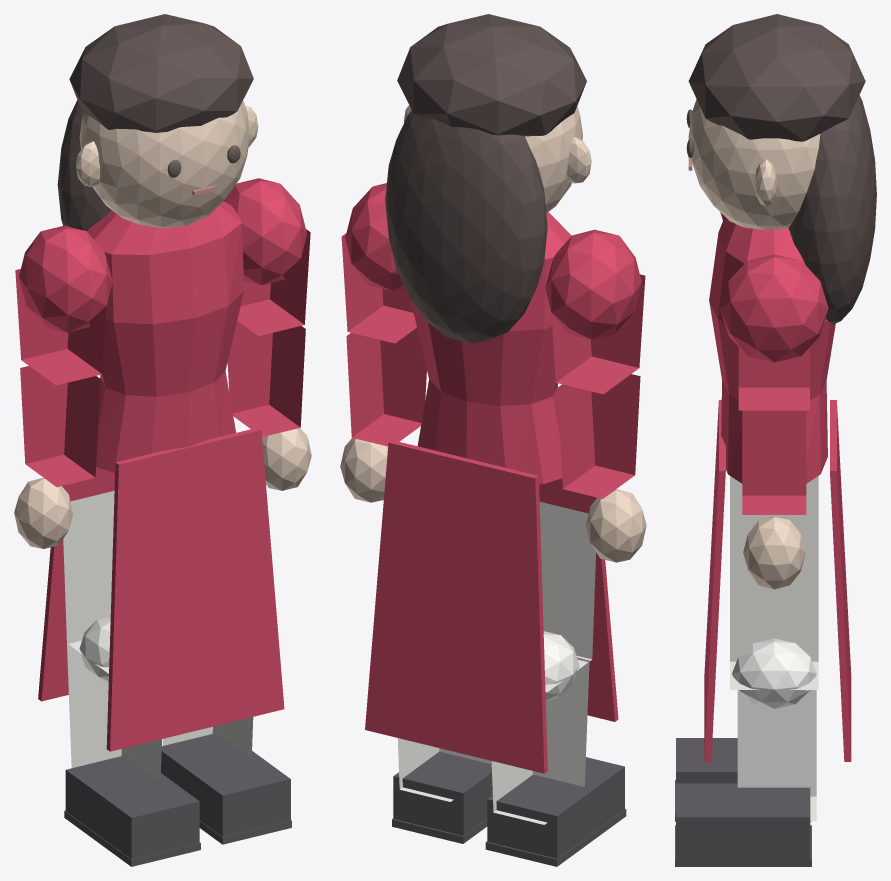
The model's file is female_teacher_red_aodai.glb.
The picture shows the model from 3 angles, left to right: view 1: azimuth 30°, elevation 25°; view 2: azimuth 150°, elevation 25°; view 3: azimuth 270°, elevation 25°; orthographic projection. The views are drawn at different scales.
Parts seen in each view (by area): view 1: AoDaiFrontLongPanel, AoDaiBodice, HairCap, Head, LeftShoe, RightShoe, LeftForearmSleeve, LeftShoulderCap, RightForearmSleeve, LeftThigh, RightShoulderCap, LeftShin (+11 smaller); view 2: AoDaiBackLongPanel, LongHairBack, AoDaiBodice, HairCap, LeftShoe, LeftForearmSleeve, LeftShoulderCap, RightForearmSleeve, LeftThigh, RightShoe, LeftShin, LeftUpperSleeve (+11 smaller); view 3: HairCap, LongHairBack, RightShoe, Head, AoDaiBodice, RightThigh, RightShoulderCap, RightShin, RightForearmSleeve, RightKneeCover, AoDaiBackLongPanel, RightUpperSleeve (+6 smaller).
Part boxes in pixels (x1,y1,x2,y2): AoDaiFrontLongPanel: (106,427,284,751); AoDaiBodice: (87,201,244,472); HairCap: (69,14,253,132); Head: (79,100,249,227); LeftShoe: (65,755,199,859); RightShoe: (161,733,290,836); LeftForearmSleeve: (20,366,100,486); LeftShoulderCap: (19,225,112,332); RightForearmSleeve: (227,321,305,436); LeftThigh: (63,490,114,673); RightShoulderCap: (224,178,306,285); LeftShin: (67,638,161,780); AoDaiBackLongPanel: (365,440,547,773); LongHairBack: (385,111,547,343); AoDaiBodice: (410,212,571,484); HairCap: (397,14,586,136); LeftShoe: (487,757,624,858); LeftForearmSleeve: (557,374,640,498); LeftShoulderCap: (545,229,641,339); RightForearmSleeve: (346,328,426,446); LeftThigh: (539,501,595,692); RightShoe: (393,751,492,835); LeftShin: (491,657,589,824); LeftUpperSleeve: (551,274,645,394); HairCap: (688,14,865,141); LongHairBack: (788,95,876,324); RightShoe: (676,783,810,859); Head: (688,99,820,229); AoDaiBodice: (709,217,835,483); RightThigh: (730,515,818,689); RightShoulderCap: (720,254,828,362); RightShin: (737,690,816,821); RightForearmSleeve: (742,410,806,514); RightKneeCover: (732,638,816,708); AoDaiBackLongPanel: (830,400,851,761); RightUpperSleeve: (738,347,809,410).
Size of the model in its own units: 0.73 by 1.89 by 0.433.
